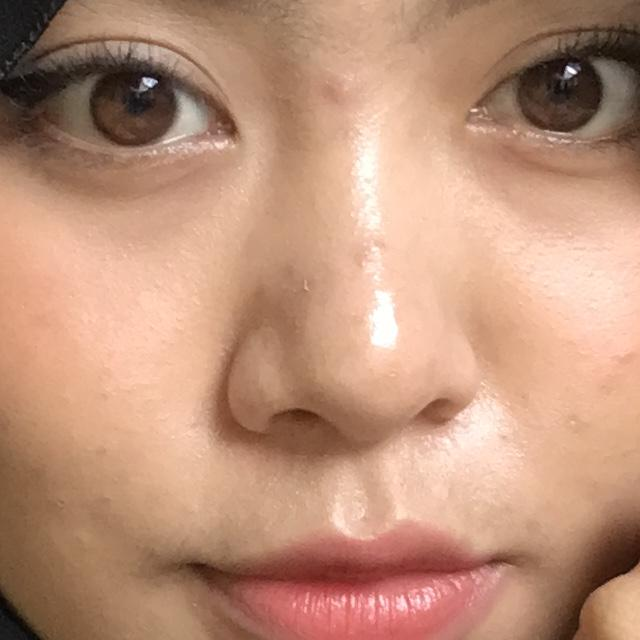telpon: (220, 96, 640, 640)
